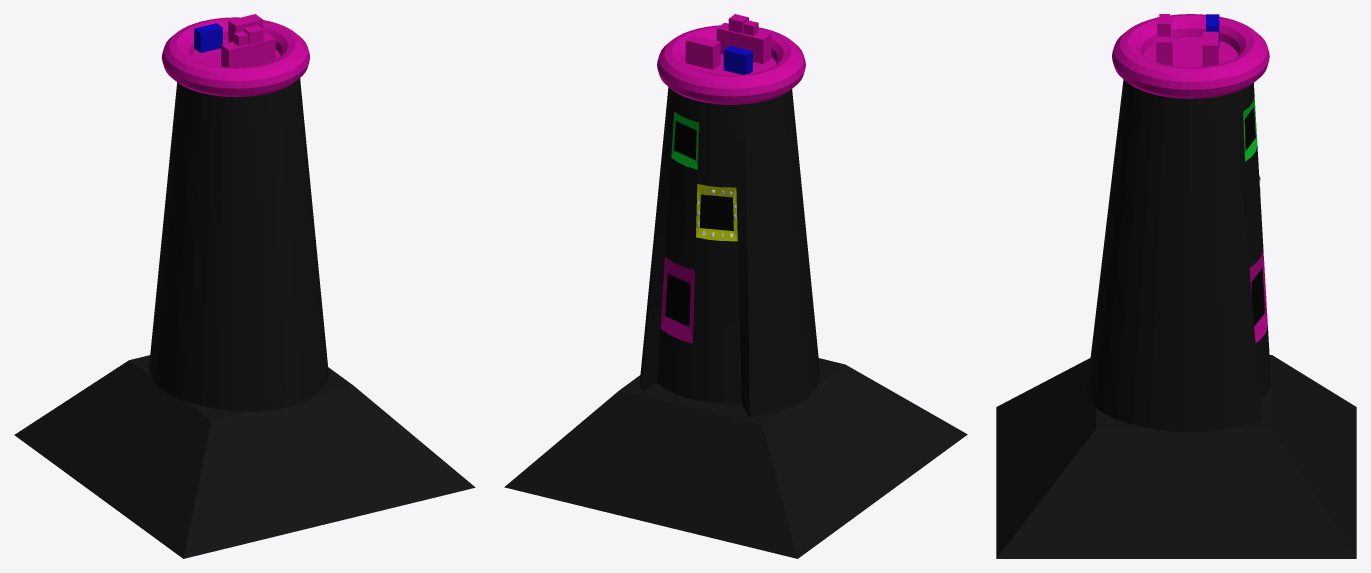
The model's file is Tengu Tower.fbx.
3 renders of one model, left to right at view 1: azimuth 30°, elevation 25°; view 2: azimuth 150°, elevation 25°; view 3: azimuth 270°, elevation 25°, orthographic. The views are drawn at different scales.
Parts seen in each view (by area): view 1: Cylinder (×3); view 2: Cylinder (×6); view 3: Cylinder (×3).
Boxes of the visible parts, <box> form: Cylinder (×3): <box>14,14,475,558</box>; Cylinder (×6): <box>504,14,967,558</box>; Cylinder (×3): <box>996,14,1356,558</box>.
Bounding box in the file's own units: 569 × 810 × 570.
